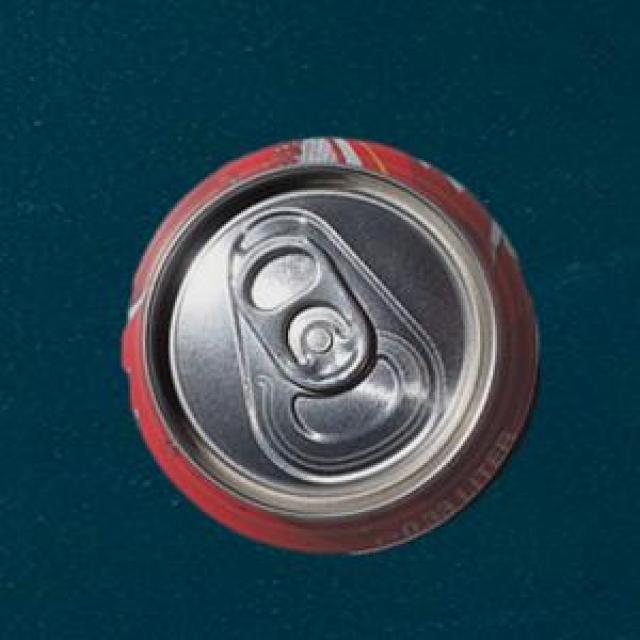Can: (121, 135, 537, 551)
